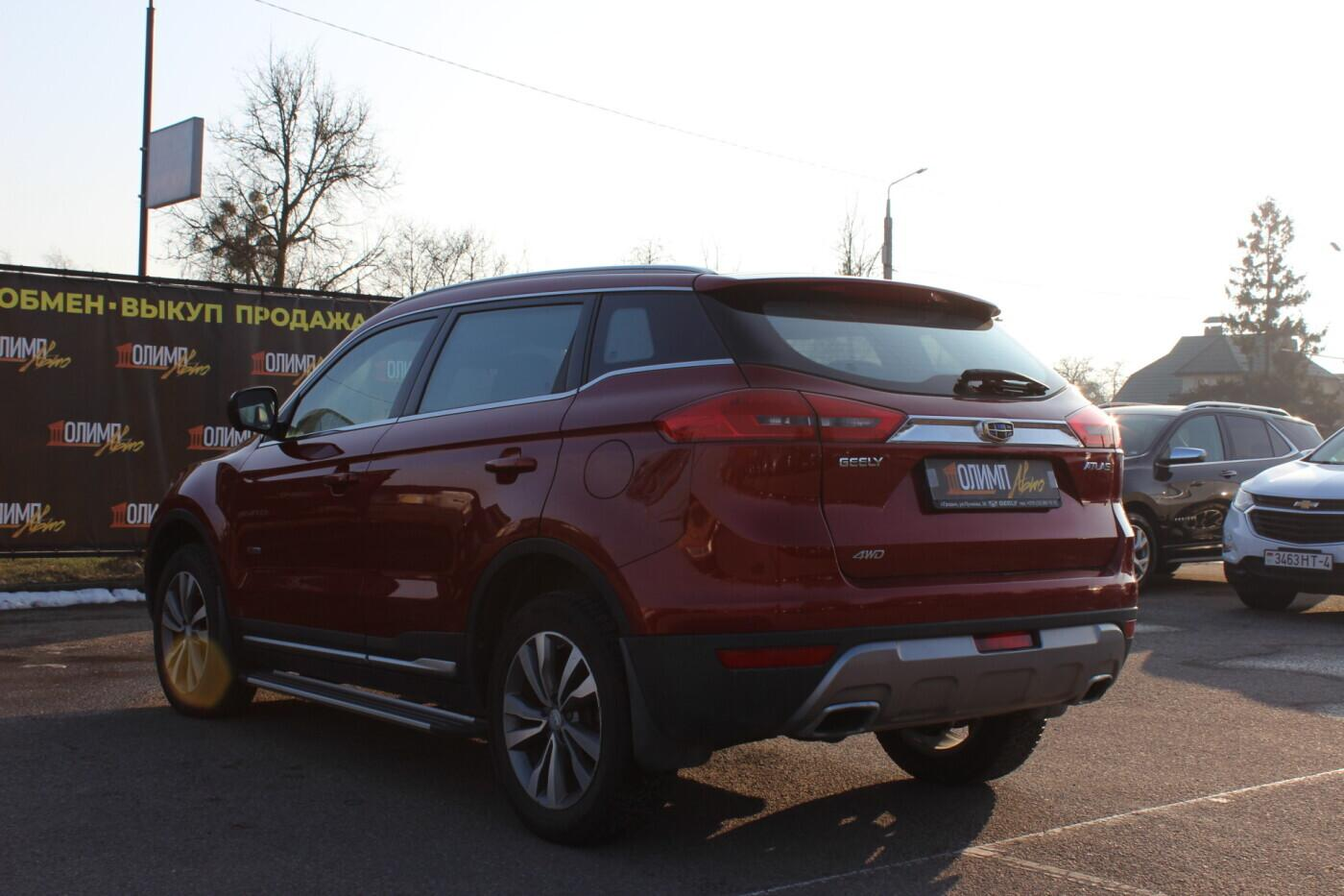Atlas_2016-2023: (137, 260, 1148, 843)
